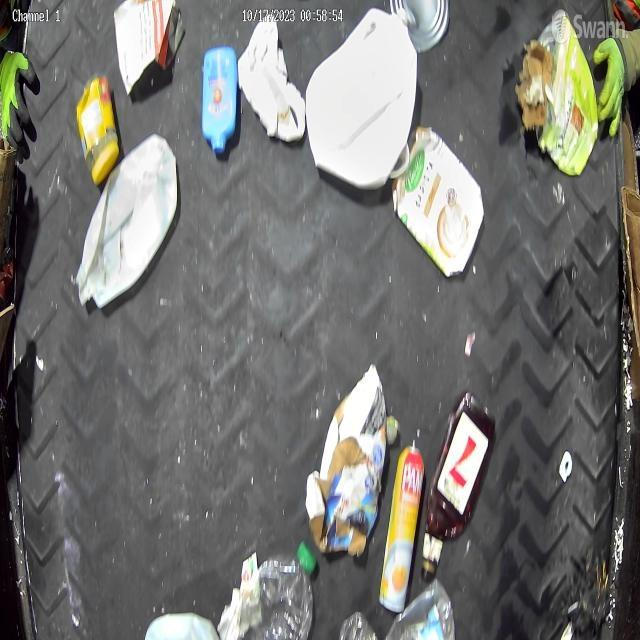milk_jug: (306, 11, 418, 188), (76, 134, 180, 312)
plastic_bottle: (238, 545, 316, 640)
